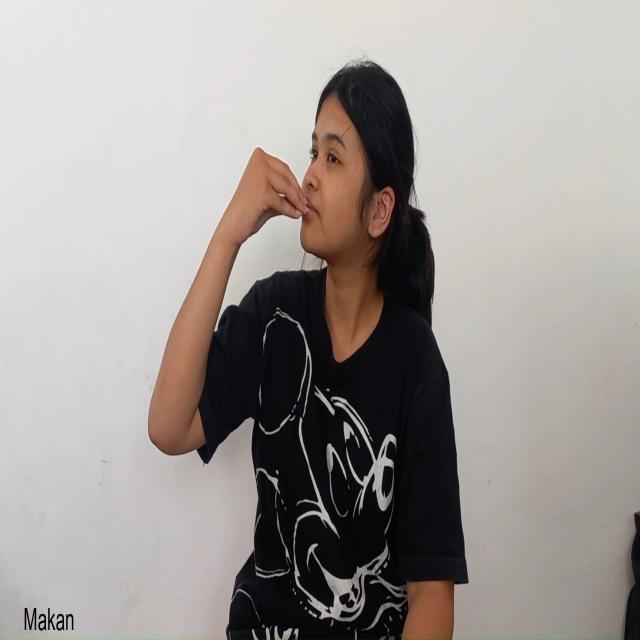Makan -BISINDO-: (227, 62, 396, 267)
